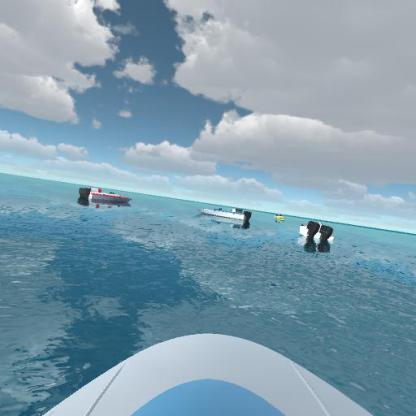usv1: (293, 213, 341, 245)
usv2: (270, 208, 288, 224)
usv3: (195, 198, 256, 230), (75, 179, 134, 212)
